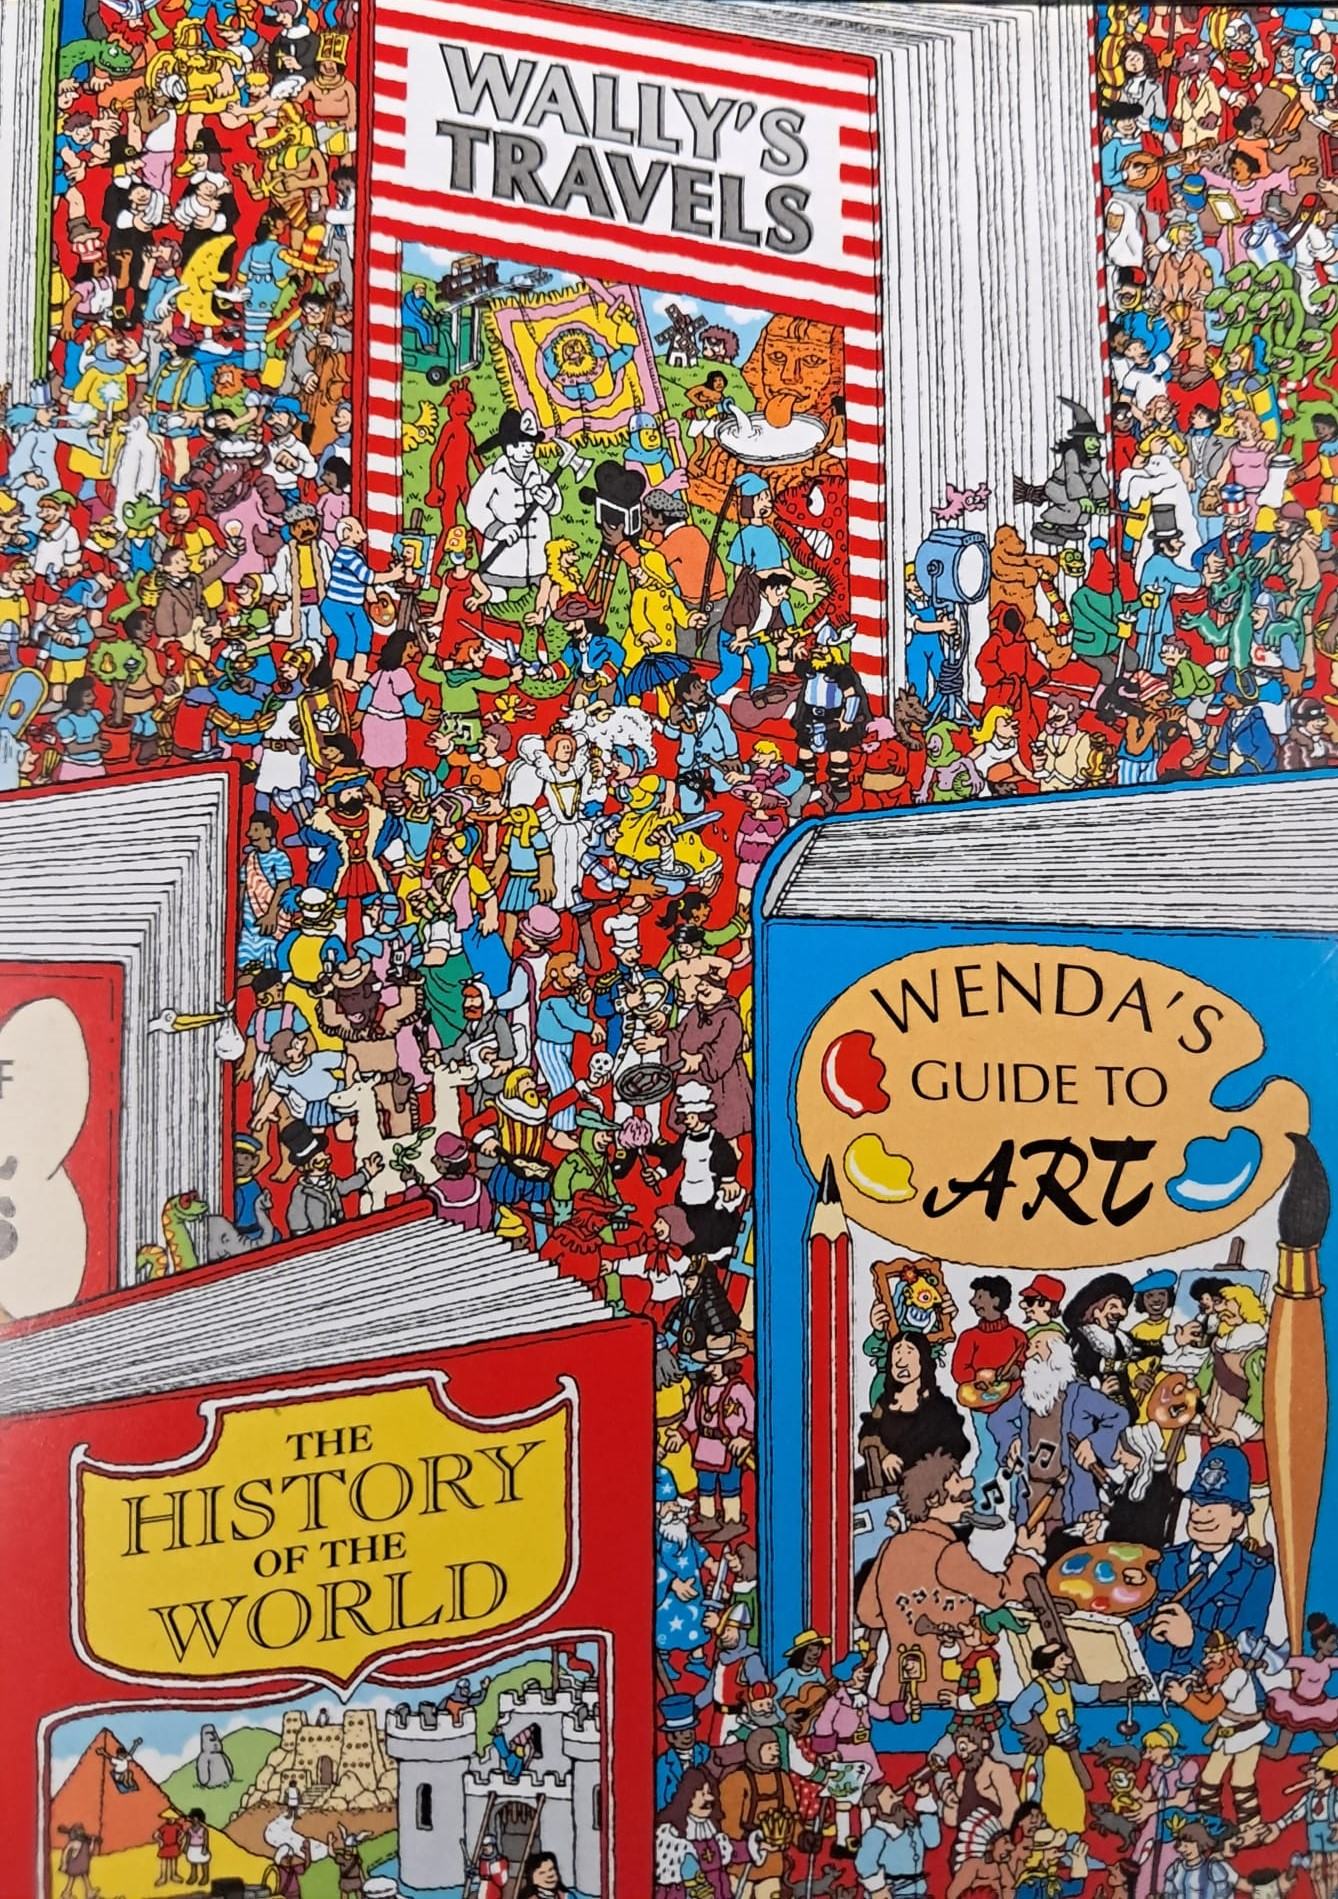waldos: (1263, 30, 1300, 91)
